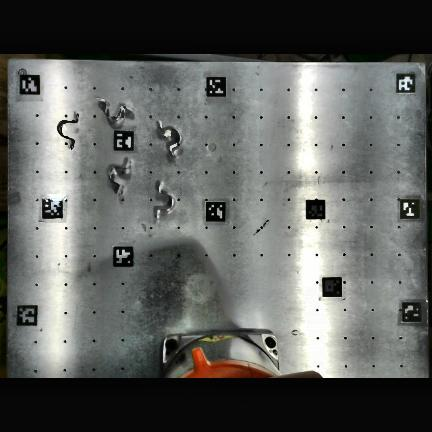clamp: (57, 112, 78, 149), (97, 98, 131, 120), (153, 182, 173, 218), (158, 125, 174, 139), (115, 183, 124, 193)
marker: (17, 304, 38, 325), (400, 198, 420, 219), (42, 198, 62, 218), (113, 246, 133, 266), (114, 130, 134, 150), (206, 75, 226, 95), (403, 300, 422, 321), (206, 201, 225, 222), (20, 75, 40, 94), (396, 73, 415, 93), (306, 200, 325, 219), (323, 278, 342, 296)
